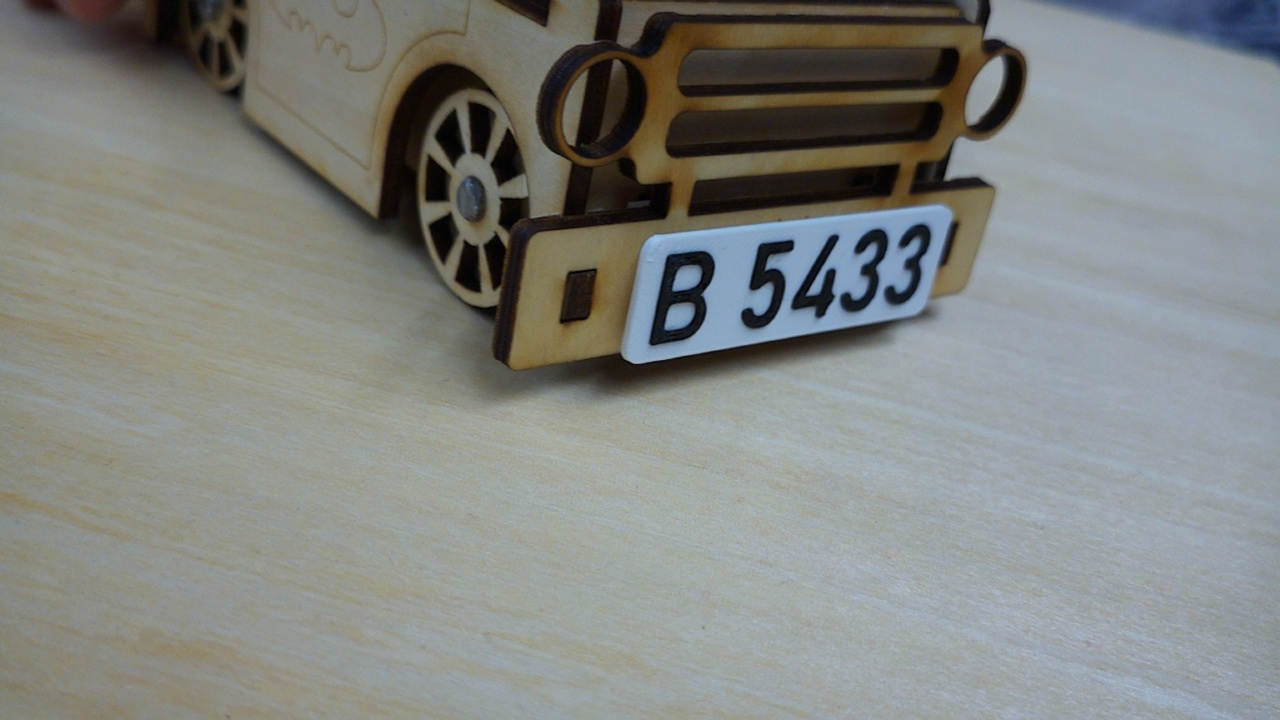license_plate: (619, 203, 956, 366)
